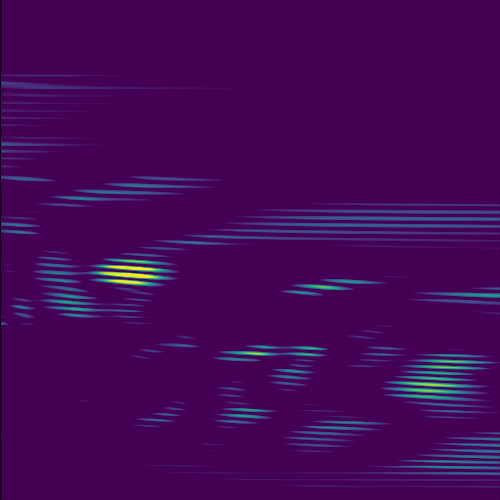semblance: (88, 258, 176, 288)
